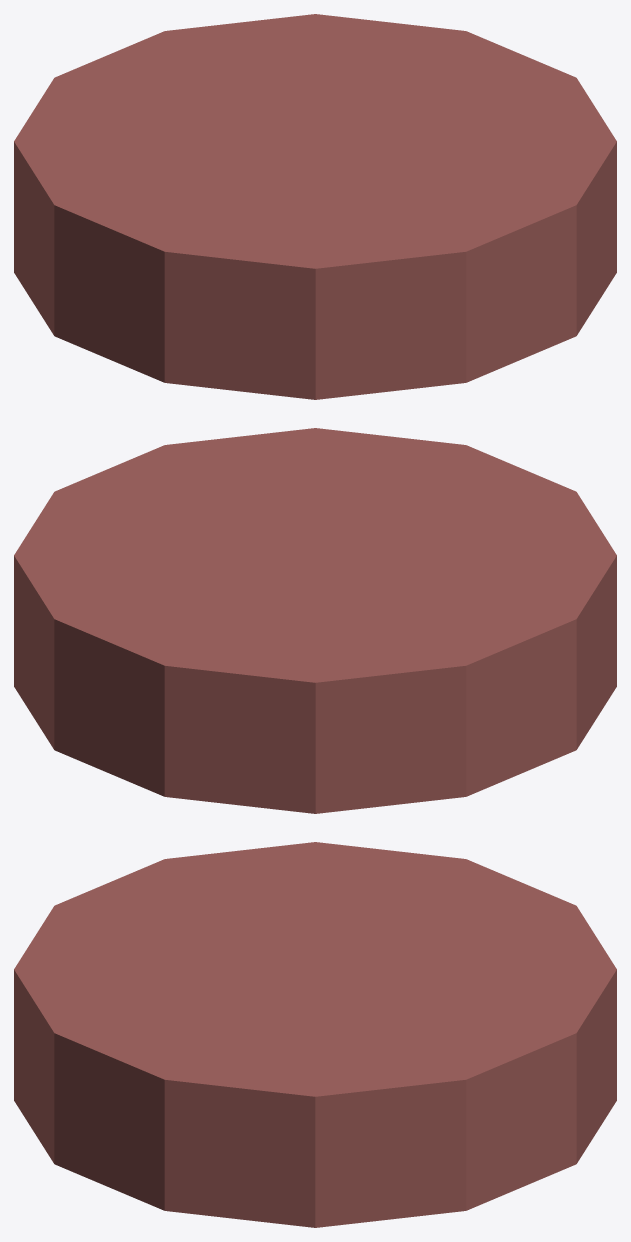
File: PR-SEAL-R.glb
3 views of the same model, one above another, from view 1: azimuth 30°, elevation 25°; view 2: azimuth 150°, elevation 25°; view 3: azimuth 270°, elevation 25° (orthographic).
Visible parts, largest first — view 1: container; view 2: container; view 3: container.
Boxes of the visible parts, x1,y1,x2,y2 form: container: (14, 14, 616, 399); container: (14, 428, 616, 813); container: (14, 842, 616, 1227).
Bounding box in the file's own units: 0.05 × 0.012 × 0.05.
